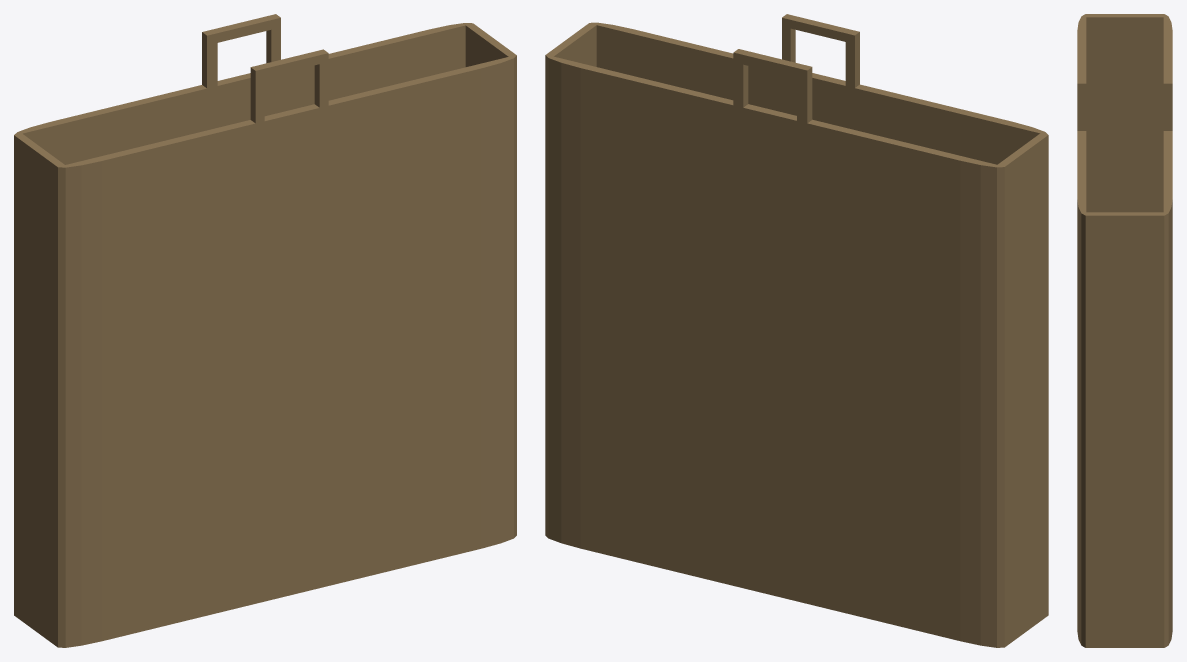
The model's file is shopping bag.fbx.
3 views of the same model, side by side, from view 1: azimuth 30°, elevation 25°; view 2: azimuth 150°, elevation 25°; view 3: azimuth 270°, elevation 25° (orthographic). The views are drawn at different scales.
Visible parts, largest first — view 1: Cube; view 2: Cube; view 3: Cube.
Boxes of the visible parts, bbox=[...] form: Cube: bbox=[14, 14, 516, 647]; Cube: bbox=[545, 14, 1048, 647]; Cube: bbox=[1077, 14, 1172, 647].
Bounding box in the file's own units: 50 × 55.5 × 10.
